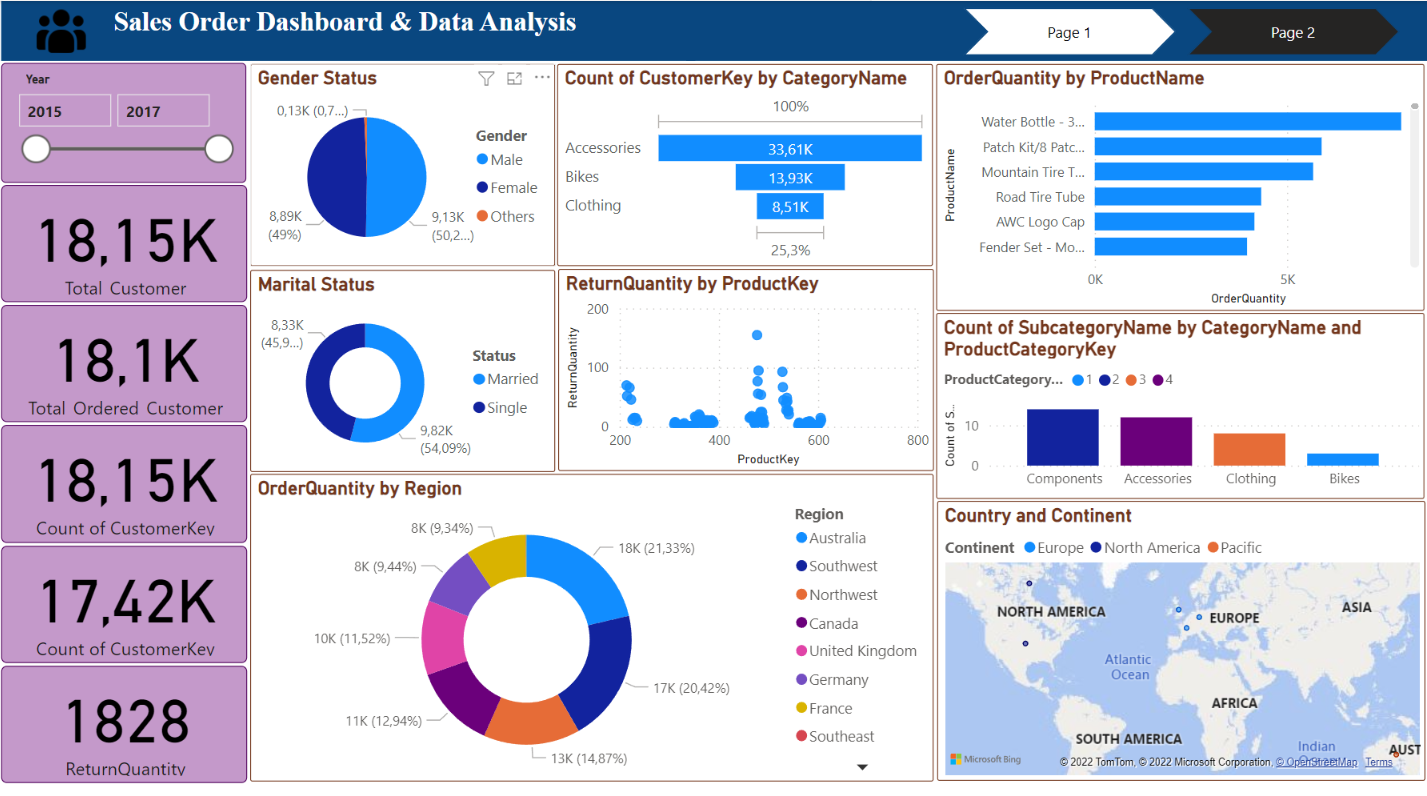

Layout of this report page (visuals, bound fields, positions):
{"tool":"powerbi","page":{"name":"Page 2","canvas":[1280,720],"ordinal":1},"visuals":[{"type":"card","fields":{"Values":["AW_Customers.Total_Customer"]},"box":[2.7,164.6,220,104.6],"z":0},{"type":"pieChart","title":" Gender Status","fields":{"Category":["AW_Customers.GenderFullForm"],"Y":["CountNonNull(AW_Customers.GenderFullForm)"]},"box":[225.4,56.3,272.8,180.7],"z":1000},{"type":"card","fields":{"Values":["AW_Total_Transaction.Total_Ordered_Customer"]},"box":[2.7,271.9,220,104.6],"z":2000},{"type":"card","fields":{"Values":["Count(AW_Customers.CustomerKey)"]},"box":[2.7,379.2,220,105.5],"z":3000},{"type":"card","fields":{"Values":["Count(AW_Total_Transaction.CustomerKey)"]},"box":[2.7,487.5,220,104.6],"z":4000},{"type":"textbox","box":[2.9,0,620.5,53.5],"z":5000},{"type":"image","box":[0,0,112.8,53.5],"z":6000},{"type":"textbox","box":[615.7,0,664.3,53.5],"z":7000},{"type":"pageNavigator","box":[862.7,5.8,390,42.8],"z":8000},{"type":"slicer","fields":{"Values":["AW_Calendar.Year"]},"box":[2.7,55.5,219,107.3],"z":9000},{"type":"funnel","fields":{"Category":["AW_Products.ProductName","AW_Product_Categories.CategoryName"],"Y":["CountNonNull(AW_Total_Transaction.CustomerKey)"]},"box":[500,56.3,336,180.7],"z":9001},{"type":"donutChart","title":" Marital Status","fields":{"Category":["AW_Customers.MaritalStatusFullForm"],"Y":["CountNonNull(AW_Customers.MaritalStatusFullForm)"]},"box":[225.4,240.6,272.8,180.7],"z":9002},{"type":"map","fields":{"Category":["AW_Territories.Country"],"Series":["AW_Territories.Continent"]},"box":[839.9,447.2,437.4,250.4],"z":9003},{"type":"barChart","fields":{"Category":["AW_Products.ProductName"],"Y":["Sum(AW_Total_Transaction.OrderQuantity)"]},"box":[839,56.3,437.4,220.9],"z":9004},{"type":"scatterChart","fields":{"X":["AW_Returns.ProductKey"],"Y":["Sum(AW_Returns.ReturnQuantity)"]},"box":[500.9,239.7,336.3,181],"z":9005},{"type":"card","fields":{"Values":["Sum(AW_Returns.ReturnQuantity)"]},"box":[2.7,594.8,220,104.6],"z":9006},{"type":"donutChart","fields":{"Category":["AW_Territories.Region"],"Y":["Sum(AW_Total_Transaction.OrderQuantity)"]},"box":[225.4,423.1,610.9,275.5],"z":9008},{"type":"columnChart","fields":{"Category":["AW_Product_Categories.CategoryName"],"Series":["AW_Product_Subcategories.ProductCategoryKey"],"Y":["CountNonNull(AW_Product_Subcategories.SubcategoryName)"]},"box":[839,279.1,437.4,166.4],"z":9009}]}

Visuals, with their boxes in screenshot pixels (x1, y1, x2, y2), scaled from the page's 1280x720 canvas onto the 1427x796 screenshot:
card - AW_Customers.Total_Customer: box(3, 182, 248, 298)
" Gender Status" pieChart: box(251, 62, 555, 262)
card - AW_Total_Transaction.Total_Ordered_Customer: box(3, 301, 248, 416)
card - Count(AW_Customers.CustomerKey): box(3, 419, 248, 536)
card - Count(AW_Total_Transaction.CustomerKey): box(3, 539, 248, 655)
textbox: box(3, 0, 695, 59)
image: box(0, 0, 126, 59)
textbox: box(686, 0, 1426, 59)
pageNavigator: box(962, 6, 1397, 54)
slicer - AW_Calendar.Year: box(3, 61, 247, 180)
funnel - AW_Products.ProductName x AW_Product_Categories.CategoryName: box(557, 62, 932, 262)
" Marital Status" donutChart: box(251, 266, 555, 466)
map - AW_Territories.Country x AW_Territories.Continent: box(936, 494, 1424, 771)
barChart - AW_Products.ProductName x Sum(AW_Total_Transaction.OrderQuantity): box(935, 62, 1423, 306)
scatterChart - AW_Returns.ProductKey x Sum(AW_Returns.ReturnQuantity): box(558, 265, 933, 465)
card - Sum(AW_Returns.ReturnQuantity): box(3, 658, 248, 773)
donutChart - AW_Territories.Region x Sum(AW_Total_Transaction.OrderQuantity): box(251, 468, 932, 772)
columnChart - AW_Product_Categories.CategoryName x AW_Product_Subcategories.ProductCategoryKey: box(935, 309, 1423, 493)
